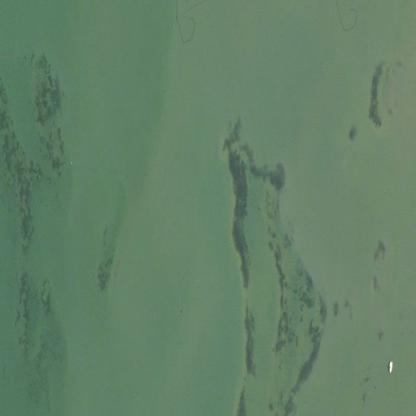ship: (383, 353, 398, 377)
